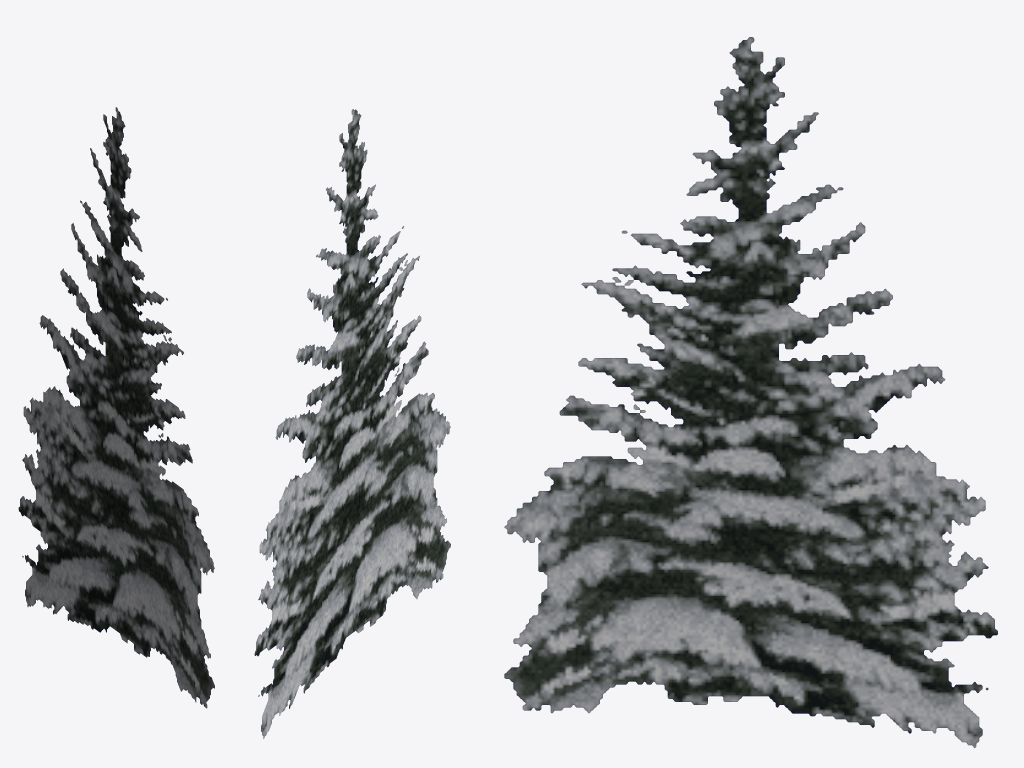
Rendered from Foliage3.fbx.
3 views of the same model, side by side, from view 1: azimuth 30°, elevation 25°; view 2: azimuth 150°, elevation 25°; view 3: azimuth 270°, elevation 25° (orthographic). The views are drawn at different scales.
Visible parts, largest first — view 1: Foliage3; view 2: Foliage3; view 3: Foliage3.
Part boxes in pixels (x1,y1,x2,y2): Foliage3: (18, 107, 214, 708); Foliage3: (254, 109, 450, 738); Foliage3: (504, 37, 997, 747).
Size of the model in its own units: 8.14e-05 by 2154 by 1380.
